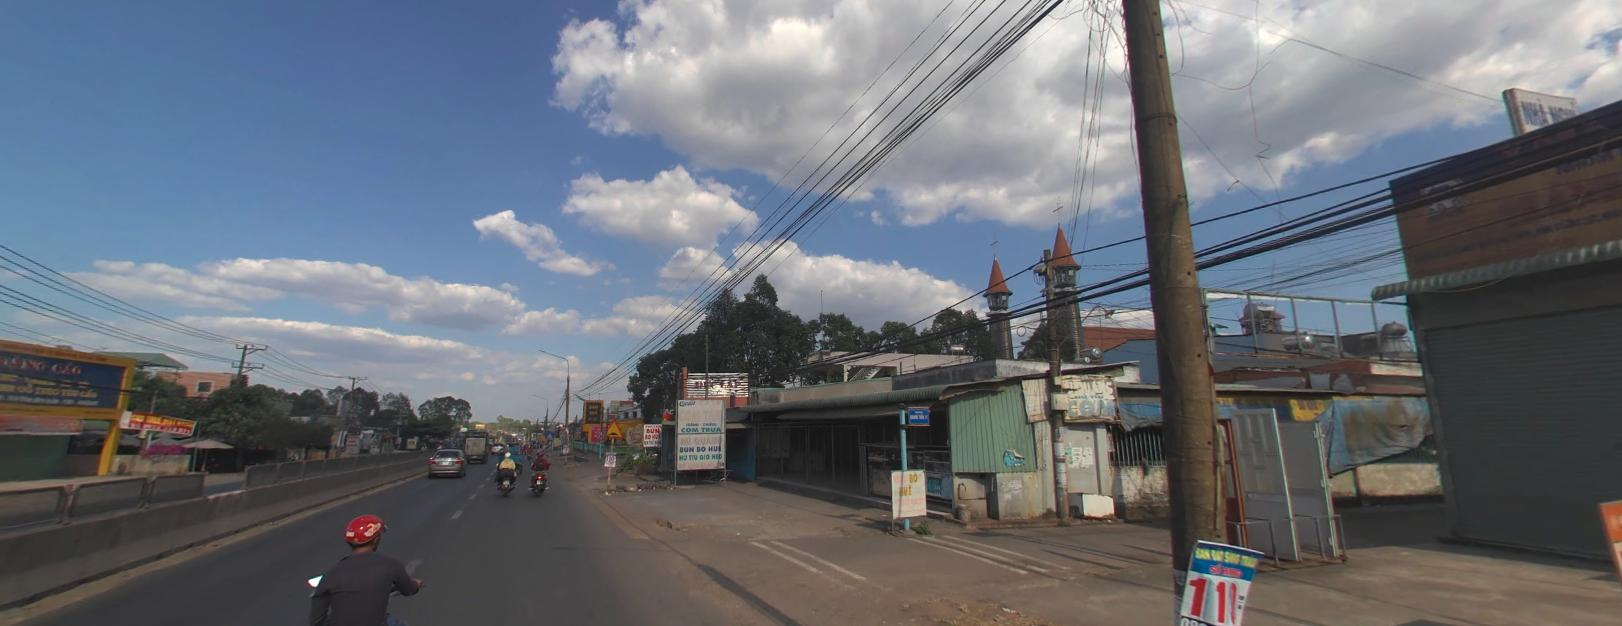Nguy hiem: (604, 417, 623, 435), (547, 431, 552, 436)
